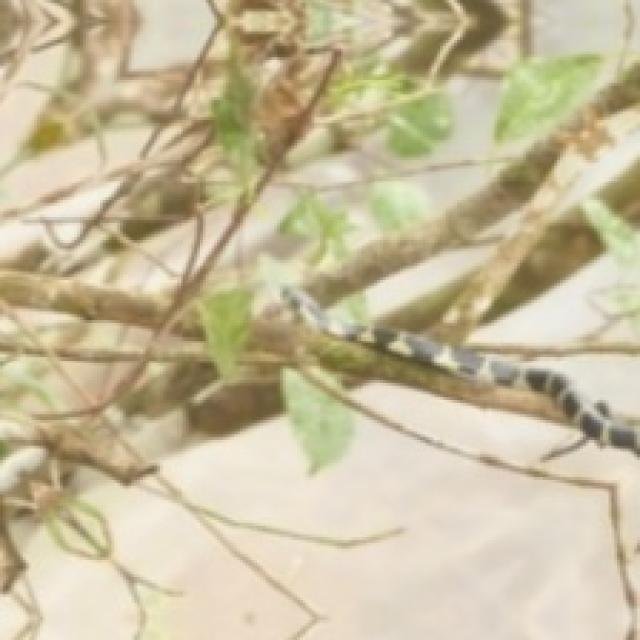king cobra: (297, 323, 637, 540), (286, 289, 637, 454), (629, 583, 637, 637)
